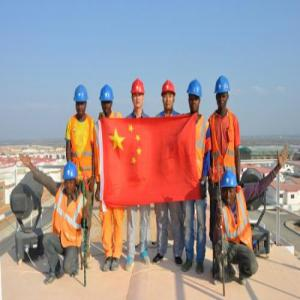blue: (221, 169, 239, 206), (73, 83, 90, 119), (215, 74, 230, 112), (64, 160, 79, 197), (187, 80, 203, 114), (99, 84, 115, 116)
red: (131, 78, 146, 112), (161, 78, 176, 112)
